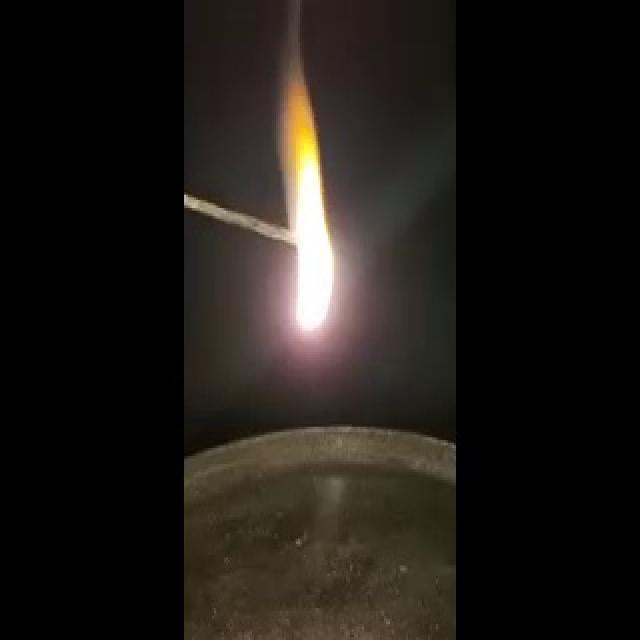fire: (279, 119, 349, 348)
